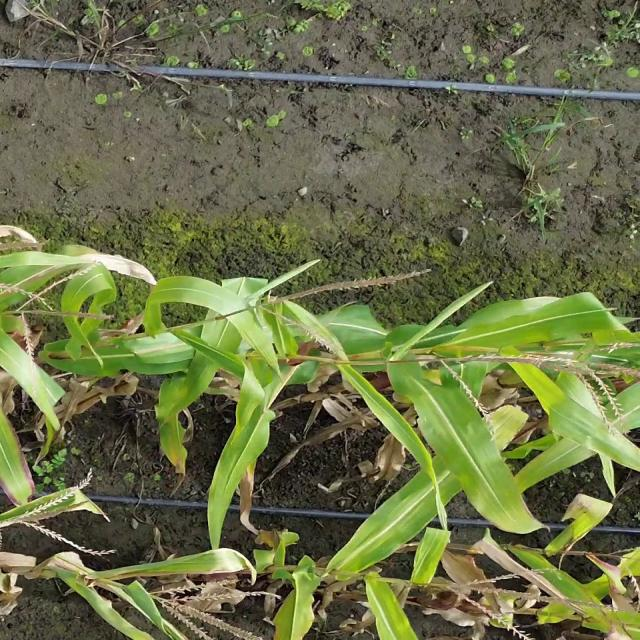northern-leaf-blight: (100, 558, 262, 594), (160, 370, 207, 484)
